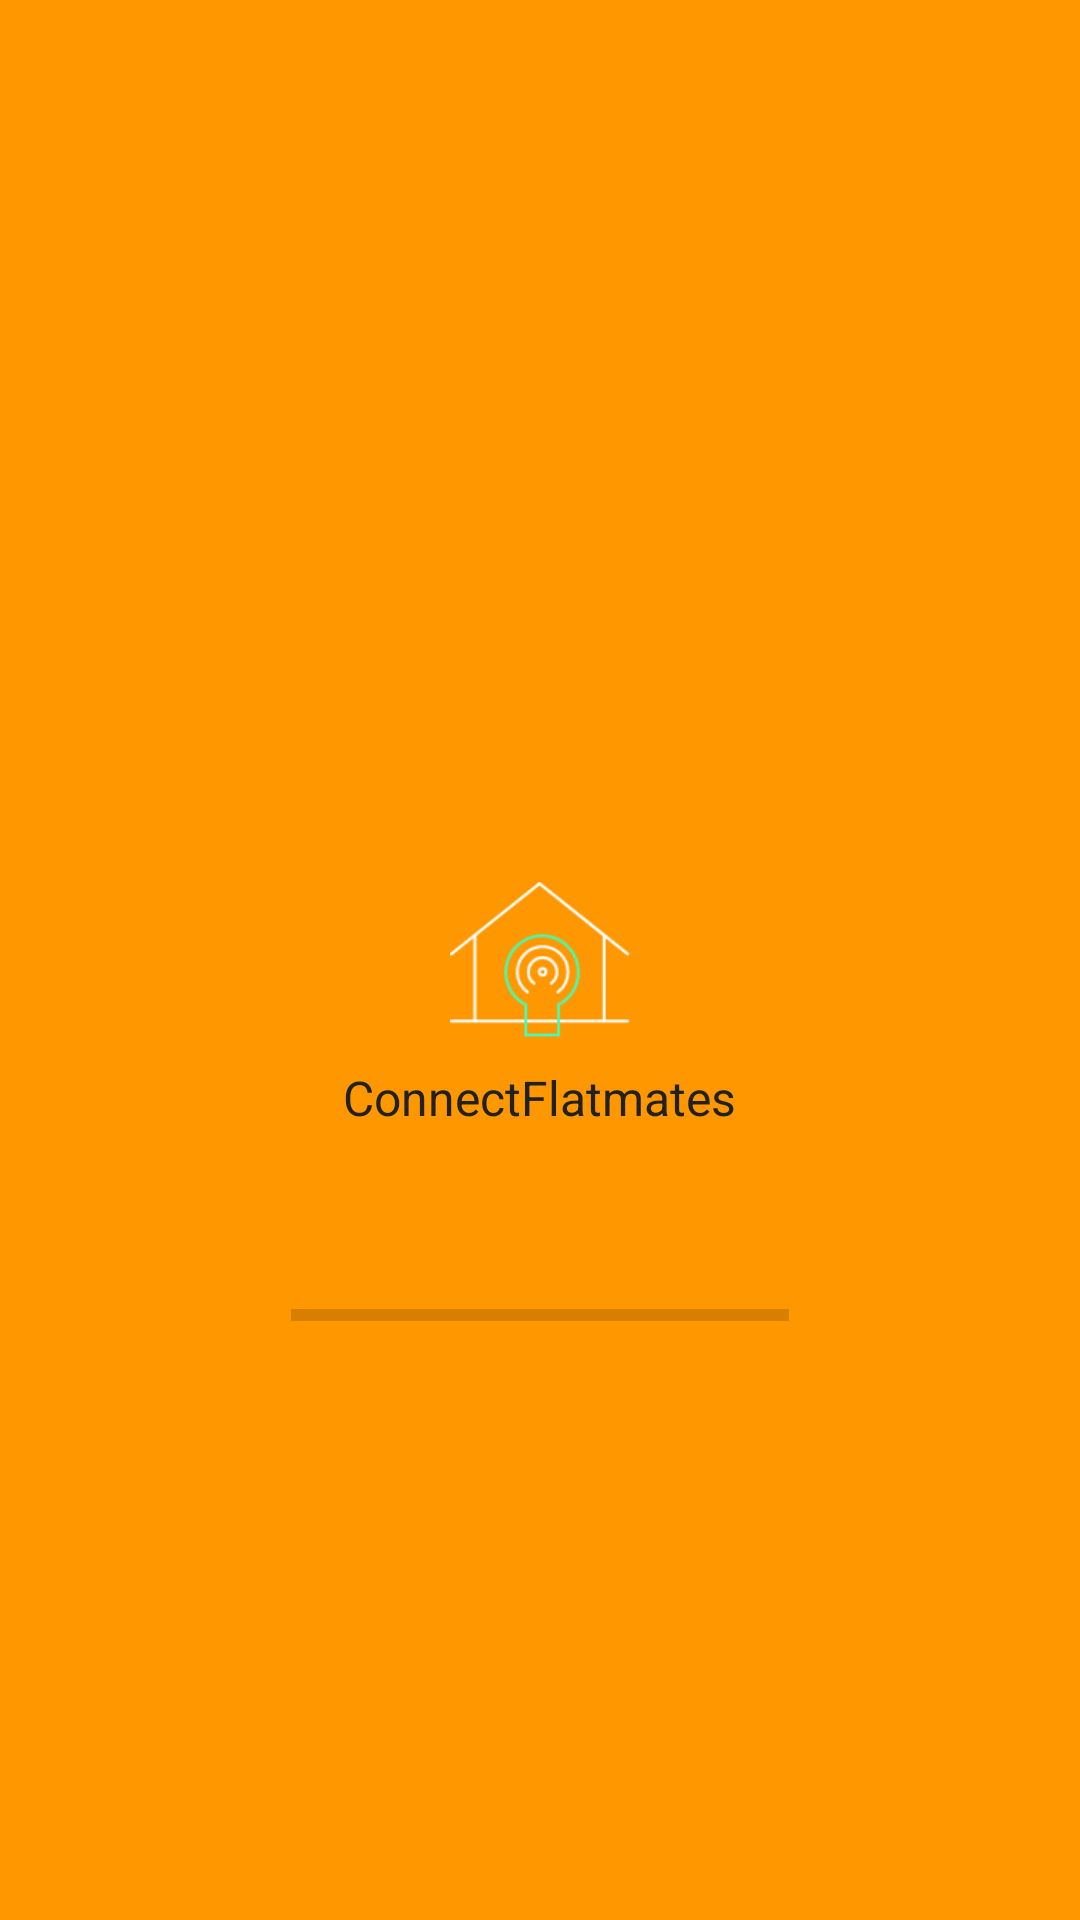

Named icons in this screenshot (1080*1920) and their bounding boxes, (x1, y1, x2, y2):
home: (450, 882, 630, 1037)
